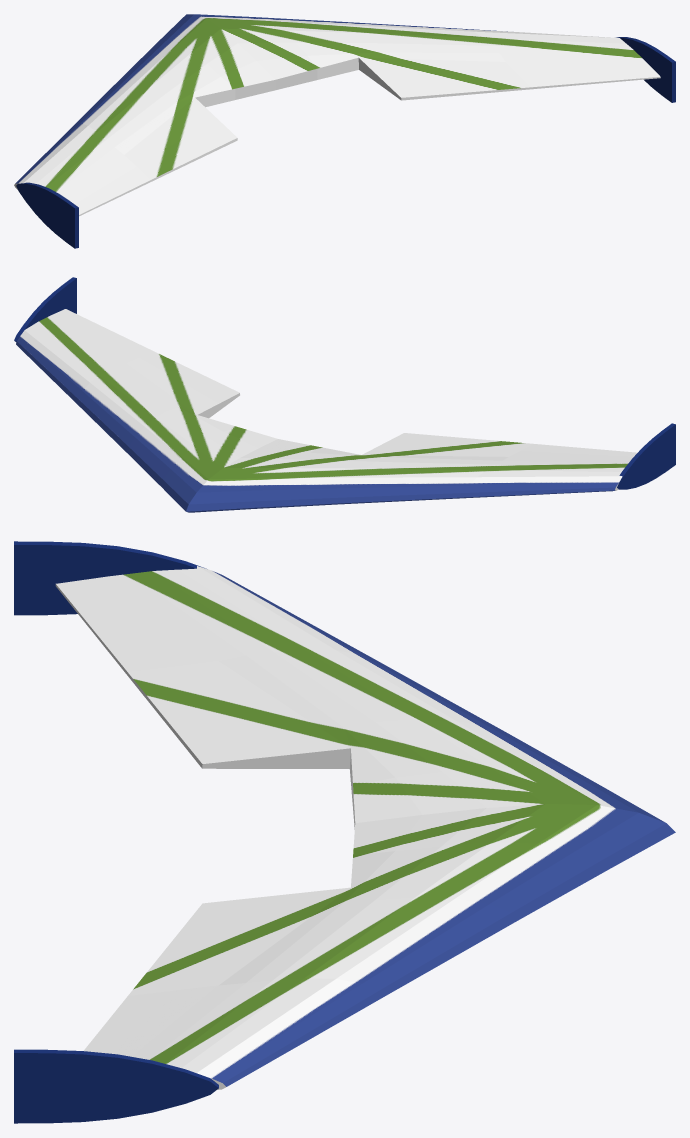
The model's file is Wing.glb.
3 renders of one model, top to bottom at view 1: azimuth 30°, elevation 25°; view 2: azimuth 150°, elevation 25°; view 3: azimuth 270°, elevation 25°, orthographic. The views are drawn at different scales.
Visible parts, largest first — view 1: Wing, WingTips; view 2: Wing, WingTips; view 3: Wing, WingTips.
Part boxes in pixels (<box>): Wing: <box>14,14,660,216</box>; WingTips: <box>16,37,675,248</box>; Wing: <box>16,309,637,512</box>; WingTips: <box>14,277,675,489</box>; Wing: <box>55,566,675,1089</box>; WingTips: <box>14,541,218,1123</box>.
Size of the model in its own units: 0.7555 by 0.0485 by 0.4132.
Materials: 2 (1 with a texture image).
